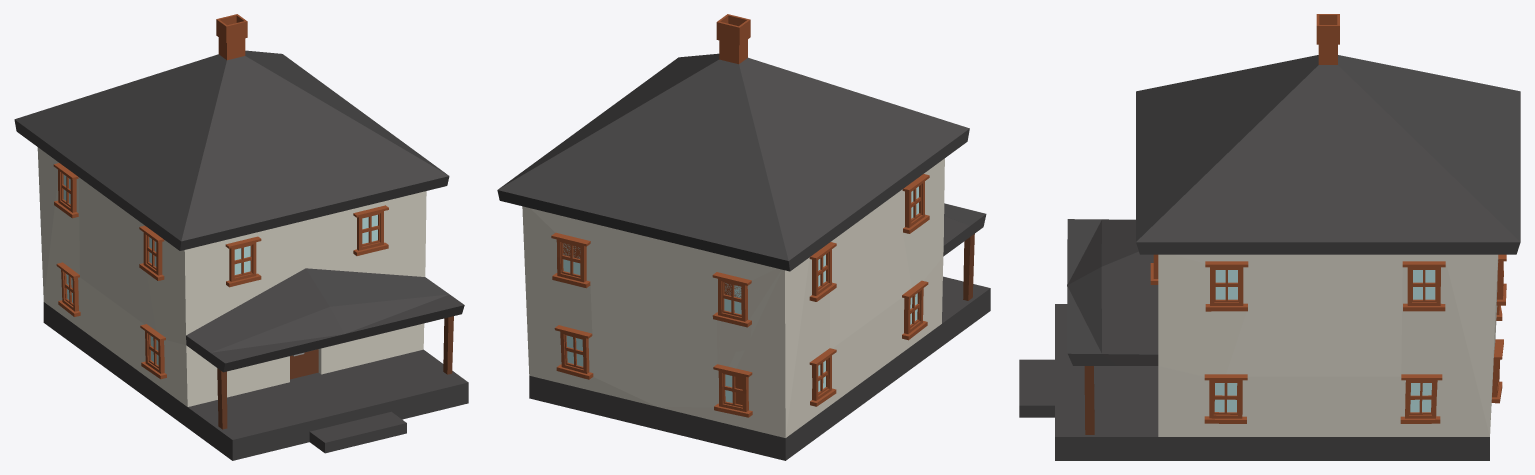
Rendered from house.glb.
3 views of the same model, side by side, from view 1: azimuth 30°, elevation 25°; view 2: azimuth 150°, elevation 25°; view 3: azimuth 270°, elevation 25° (orthographic). The views are drawn at different scales.
Visible parts, largest first — view 1: House; view 2: House; view 3: House.
Part boxes in pixels (<box>): House: <box>14,14,468,460</box>; House: <box>497,14,990,460</box>; House: <box>1019,14,1520,460</box>.
Bounding box in the file's own units: 1.22 × 1.42 × 1.72.
1 material, 1 textured.
